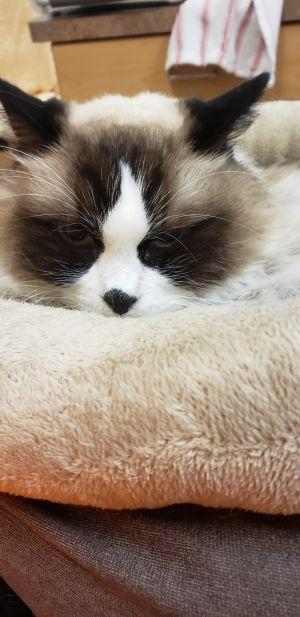ragdoll: (1, 49, 276, 345)
